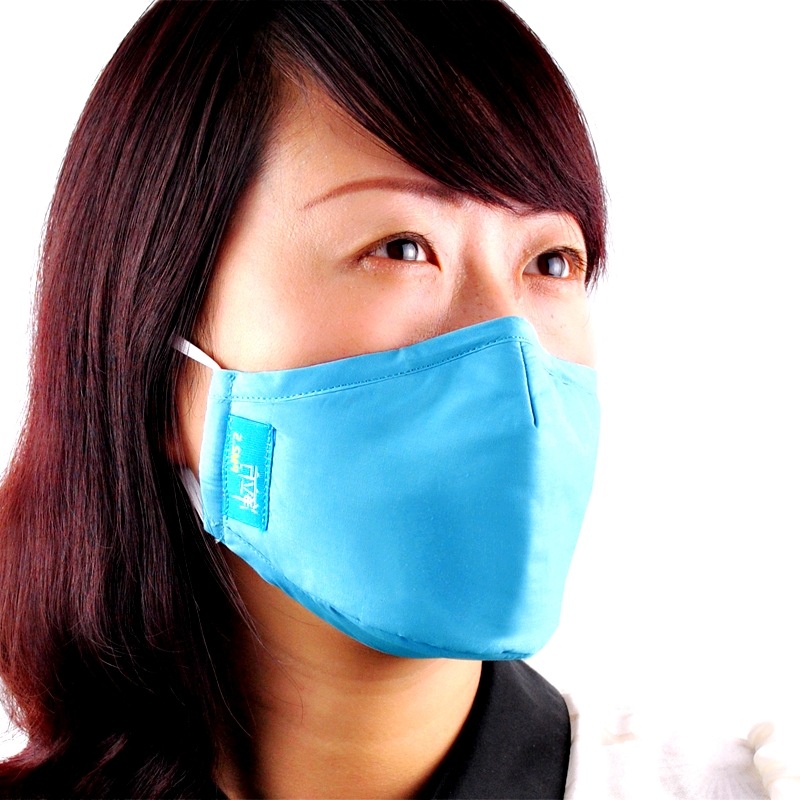face_mask: (215, 85, 602, 593)
